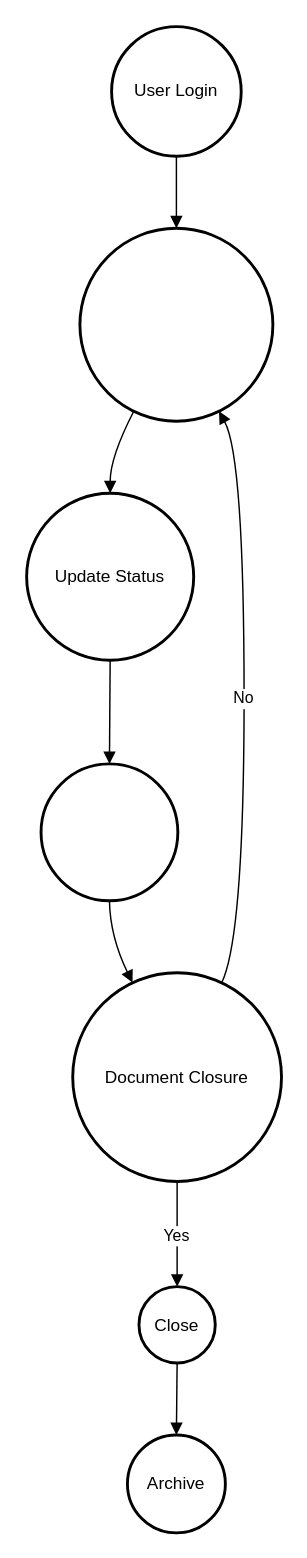
Image size: 307x1558. Some labels were removed from this diagram. The shapes that lost their labels are listed below. From the top down, each one's centre as x and y in pixels, then its label:
the point at 176,324: Document Query
the point at 109,831: Notify User
